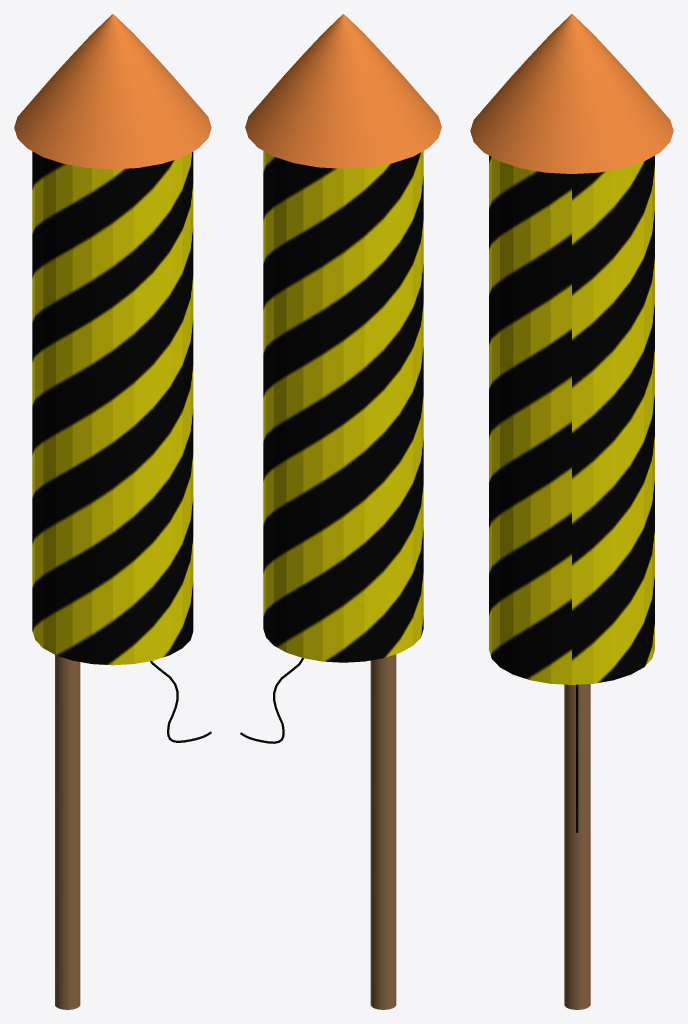
The model's file is firecracker3.fbx.
The picture shows the model from 3 angles, left to right: view 1: azimuth 30°, elevation 25°; view 2: azimuth 150°, elevation 25°; view 3: azimuth 270°, elevation 25°; orthographic projection. The views are drawn at different scales.
Parts seen in each view (by area): view 1: Cone006; view 2: Cone006; view 3: Cone006.
Part boxes in pixels (box(x1,y1,x2,y2)): Cone006: box(14, 14, 211, 1009); Cone006: box(240, 14, 441, 1009); Cone006: box(470, 14, 673, 1009).
Size of the model in its own units: 56.52 by 284 by 51.81.
